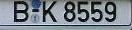-: (31, 8, 40, 13)
5: (77, 0, 89, 22), (91, 1, 103, 23)
8: (64, 1, 76, 22)
9: (105, 1, 117, 22)
B: (13, 1, 29, 22)
K: (43, 1, 57, 23)
